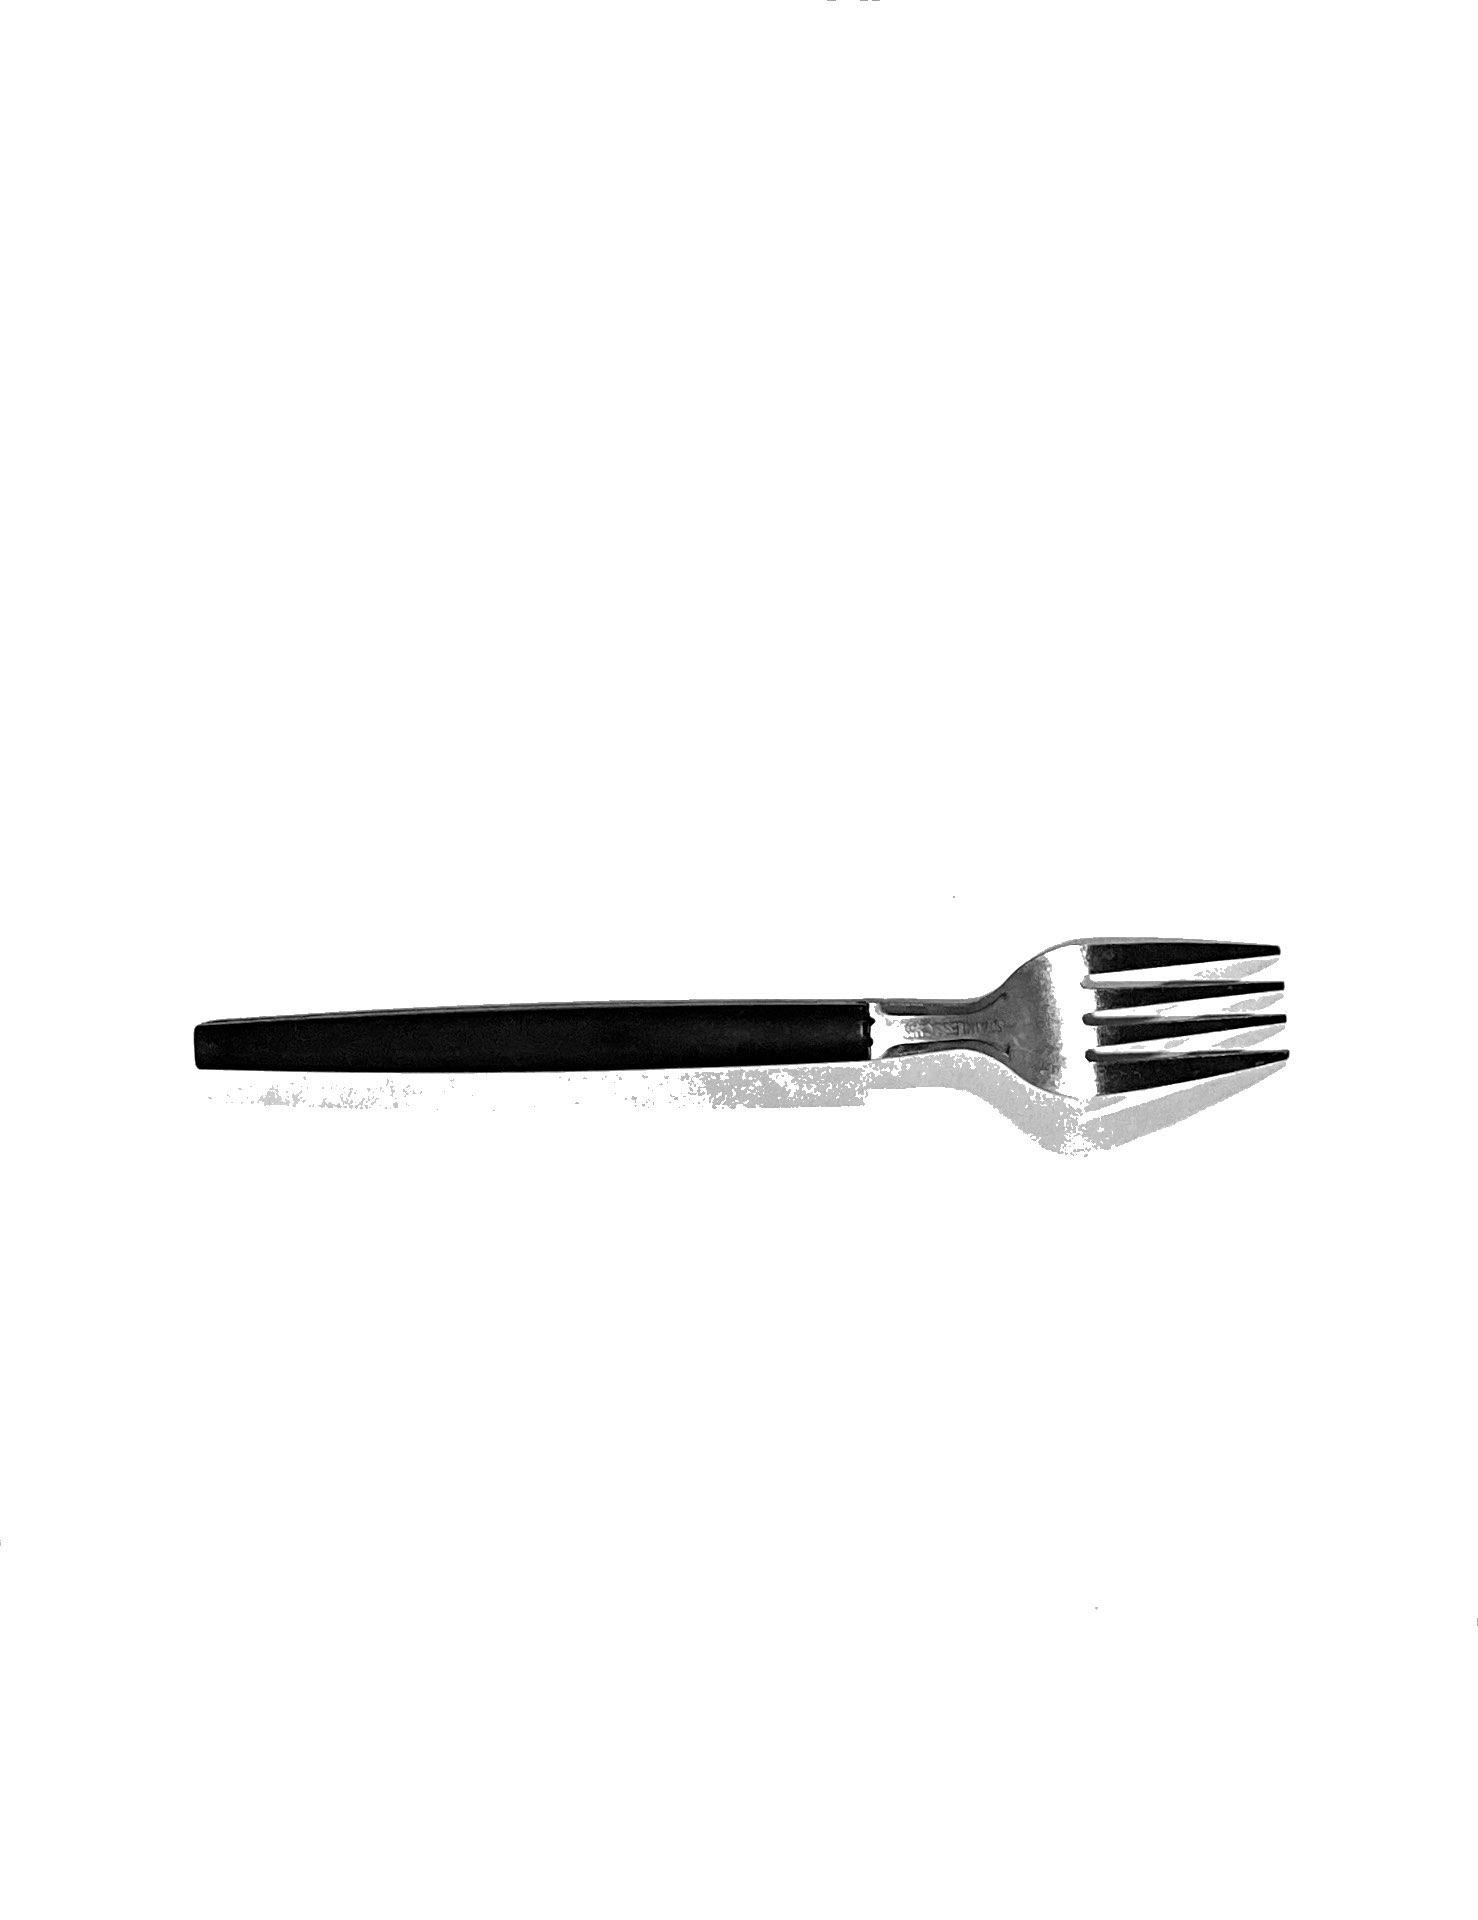Fork: (166, 829, 1400, 1229)
